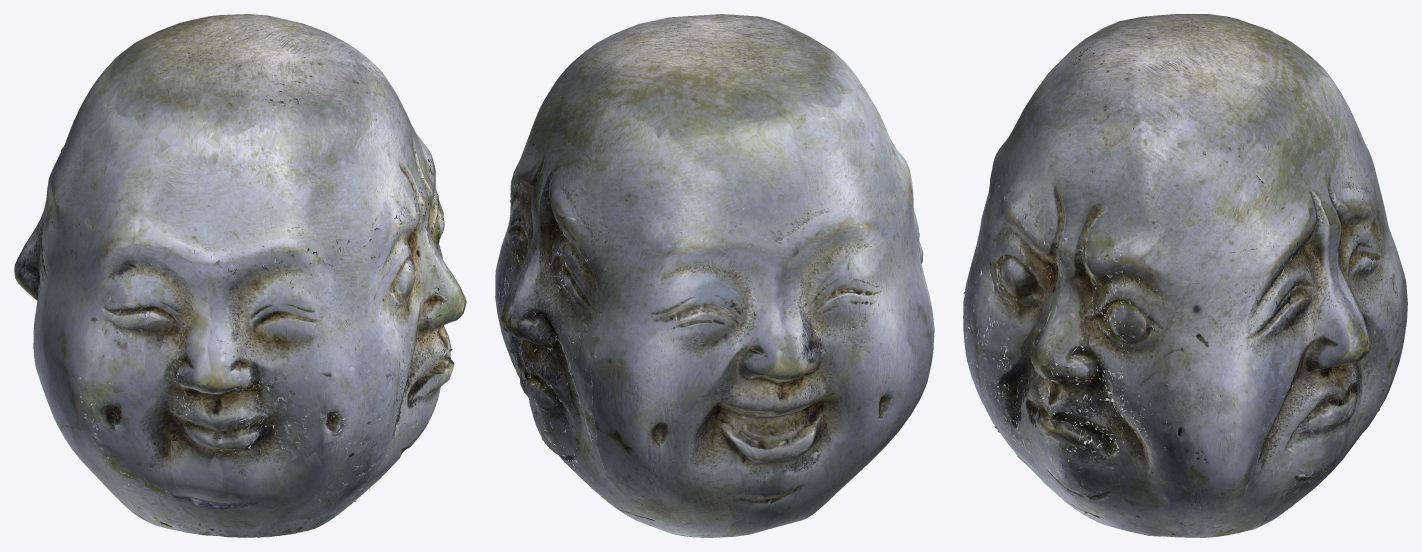
File: buddha-user-v52.glb
3 views of the same model, side by side, from view 1: azimuth 30°, elevation 25°; view 2: azimuth 150°, elevation 25°; view 3: azimuth 270°, elevation 25° (orthographic).
Parts seen in each view (by area): view 1: Object_4, Object_3, Object_2, Object_5; view 2: Object_2, Object_4, Object_3; view 3: Object_4, Object_3, Object_2, Object_5.
Part boxes in pixels (box(x1,y1,x2,y2)): Object_4: box(51, 14, 442, 532); Object_3: box(84, 148, 466, 537); Object_2: box(14, 157, 465, 537); Object_5: box(216, 161, 447, 516); Object_2: box(571, 173, 934, 537); Object_4: box(497, 14, 924, 525); Object_3: box(495, 158, 934, 516); Object_4: box(963, 14, 1401, 537); Object_3: box(963, 160, 1402, 537); Object_2: box(963, 149, 1407, 529); Object_5: box(963, 175, 1122, 500).
Size of the model in its own units: 0.3991 by 0.44 by 0.3863.
Materials: 1 (1 with a texture image).
